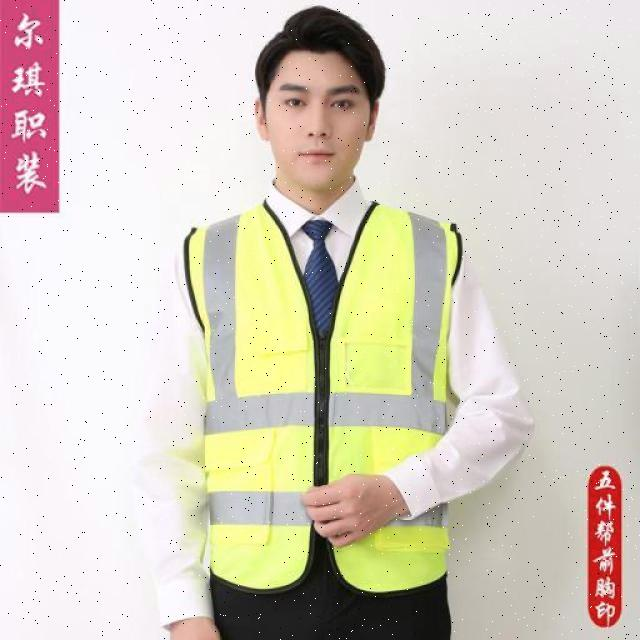Person: (141, 3, 538, 640)
Vest: (195, 200, 489, 573)
